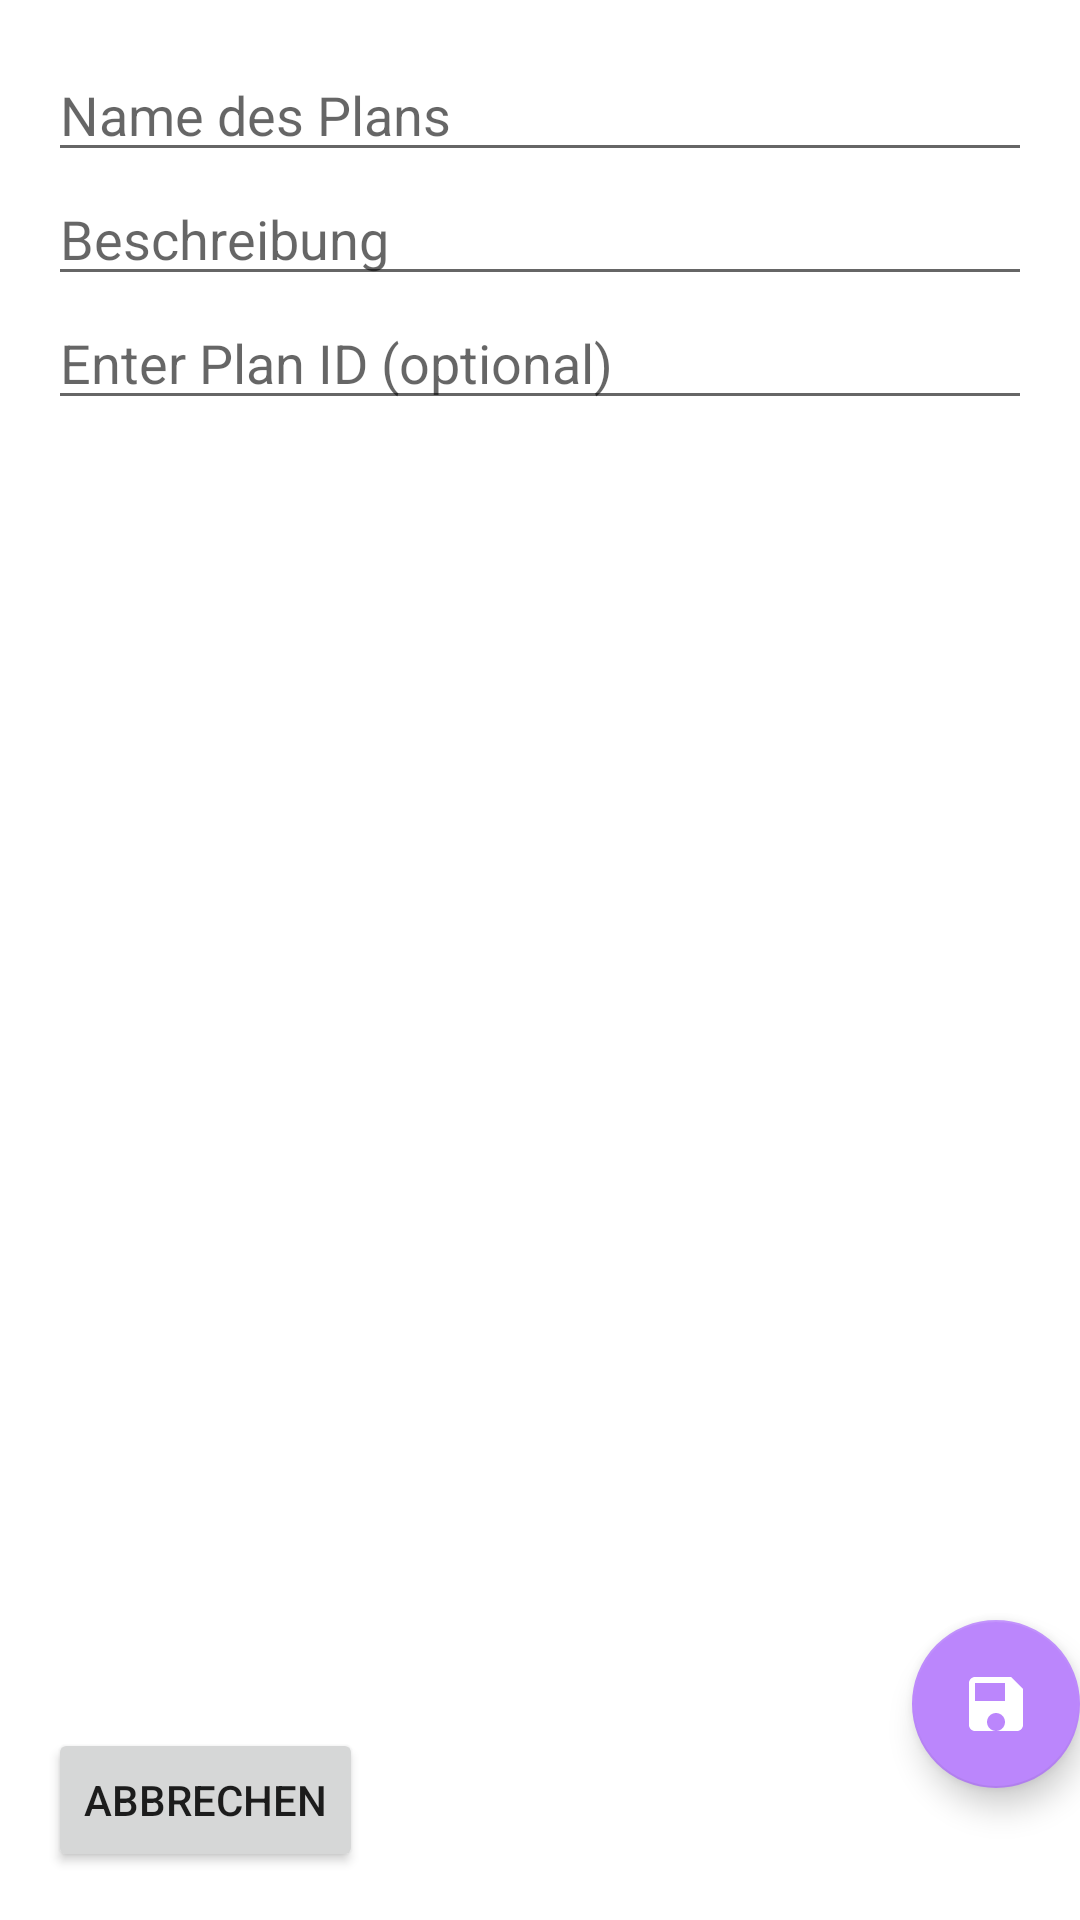

Icons on this 1080 × 1920 Android screen, each with the point to tap as (x,y):
Speichern: (996,1704)
